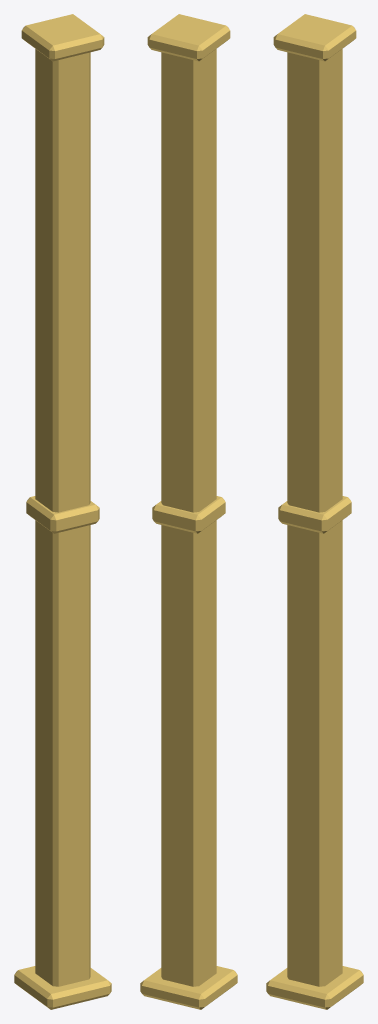
The model's file is SM_Post_0p25x6p05x0p25.glb.
The picture shows the model from 3 angles, left to right: view 1: azimuth 30°, elevation 25°; view 2: azimuth 150°, elevation 25°; view 3: azimuth 330°, elevation 25°; orthographic projection.
Visible parts, largest first — view 1: SM_Post_0p25x6p05x0p25; view 2: SM_Post_0p25x6p05x0p25; view 3: SM_Post_0p25x6p05x0p25.
Part boxes in pixels (x1,y1,x2,y2): SM_Post_0p25x6p05x0p25: [14, 14, 111, 1009]; SM_Post_0p25x6p05x0p25: [140, 14, 237, 1009]; SM_Post_0p25x6p05x0p25: [266, 14, 363, 1009].
Size of the model in its own units: 0.425 by 6.05 by 0.425.
